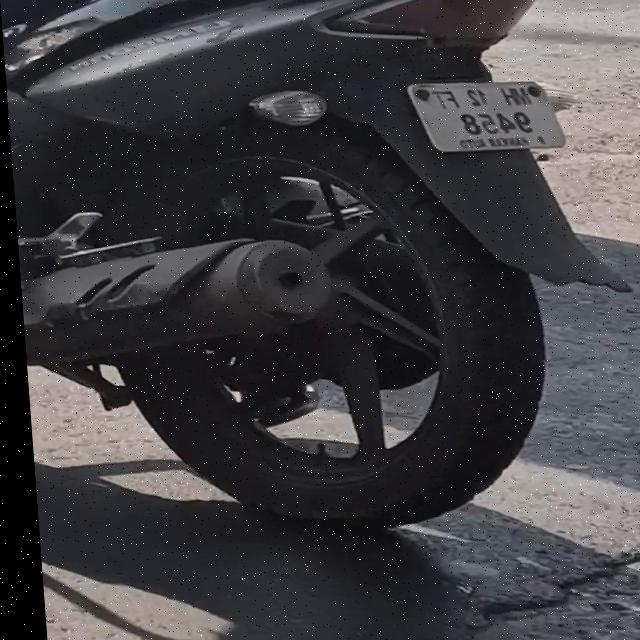plate: (404, 80, 560, 154)
